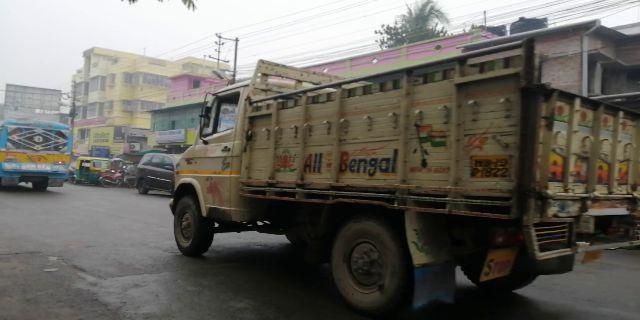Bus: (5, 117, 71, 180)
Car: (135, 151, 178, 194)
Truck: (173, 56, 626, 279)
